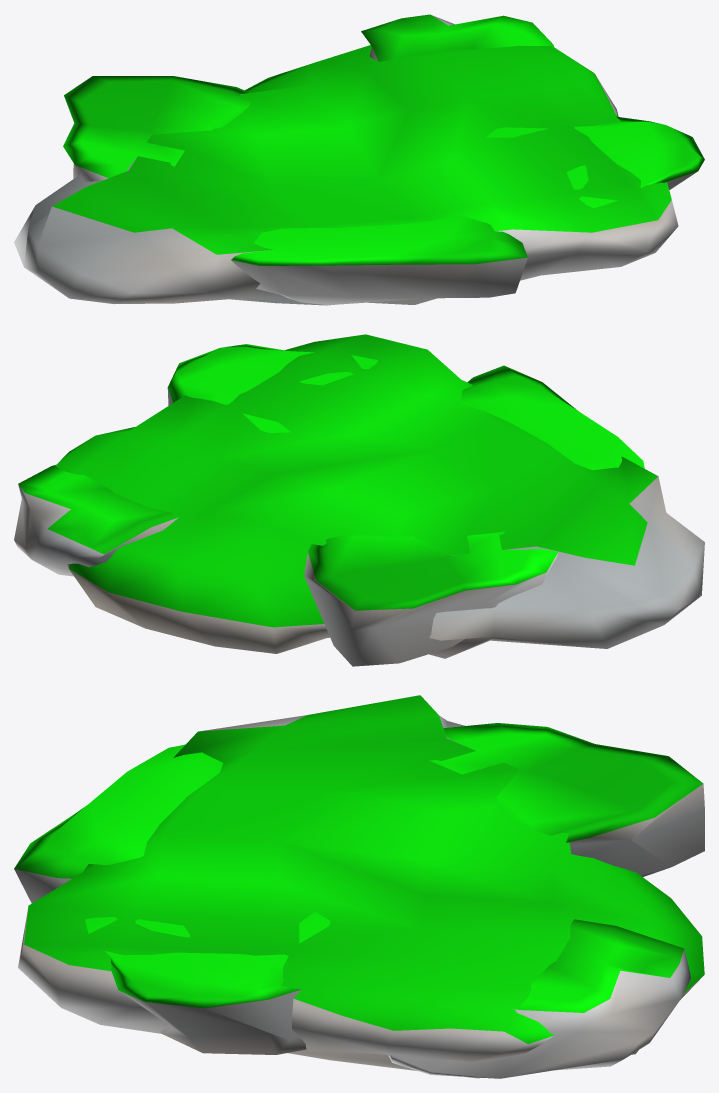
File: MESH_CliffTop_01_Grass.fbx
3 views of the same model, one above another, from view 1: azimuth 30°, elevation 25°; view 2: azimuth 150°, elevation 25°; view 3: azimuth 270°, elevation 25° (orthographic). The views are drawn at different scales.
Visible parts, largest first — view 1: pCube6, pCube12, pCube5, pCube14, pCube13; view 2: pCube6, pCube5, pCube13, pCube12, pCube14; view 3: pCube6, pCube5, pCube13, pCube14, pCube12.
Boxes of the visible parts, x1,y1,x2,y2 form: pCube6: (14, 45, 678, 305); pCube12: (231, 216, 527, 305); pCube5: (63, 76, 250, 181); pCube14: (486, 116, 704, 207); pCube13: (361, 14, 553, 61); pCube6: (55, 334, 704, 658); pCube5: (304, 531, 558, 666); pCube13: (14, 465, 179, 576); pCube12: (461, 365, 644, 470); pCube14: (167, 344, 378, 432); pCube6: (18, 695, 704, 1078); pCube5: (429, 723, 704, 876); pCube13: (388, 919, 691, 1078); pCube14: (85, 911, 330, 1054); pCube12: (14, 744, 223, 903).
Size of the model in its own units: 52.35 by 10.73 by 44.87.
